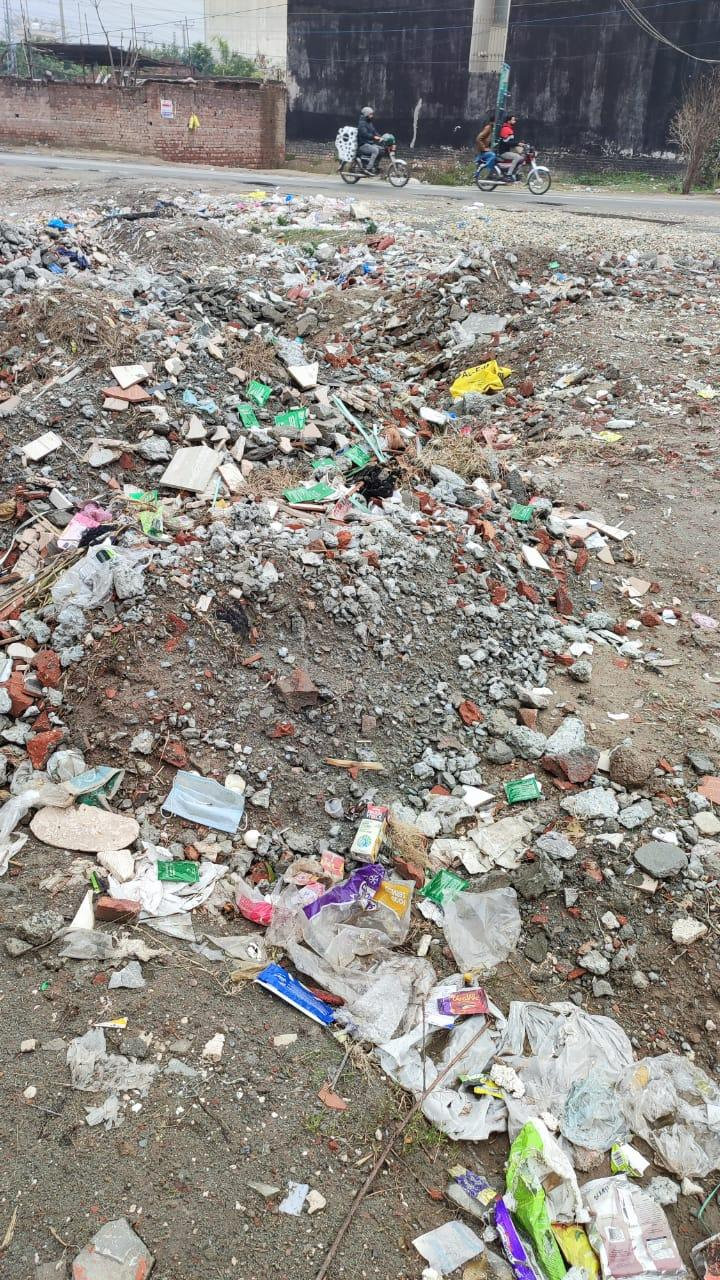garbage: (21, 658, 720, 1275), (146, 243, 541, 570)
